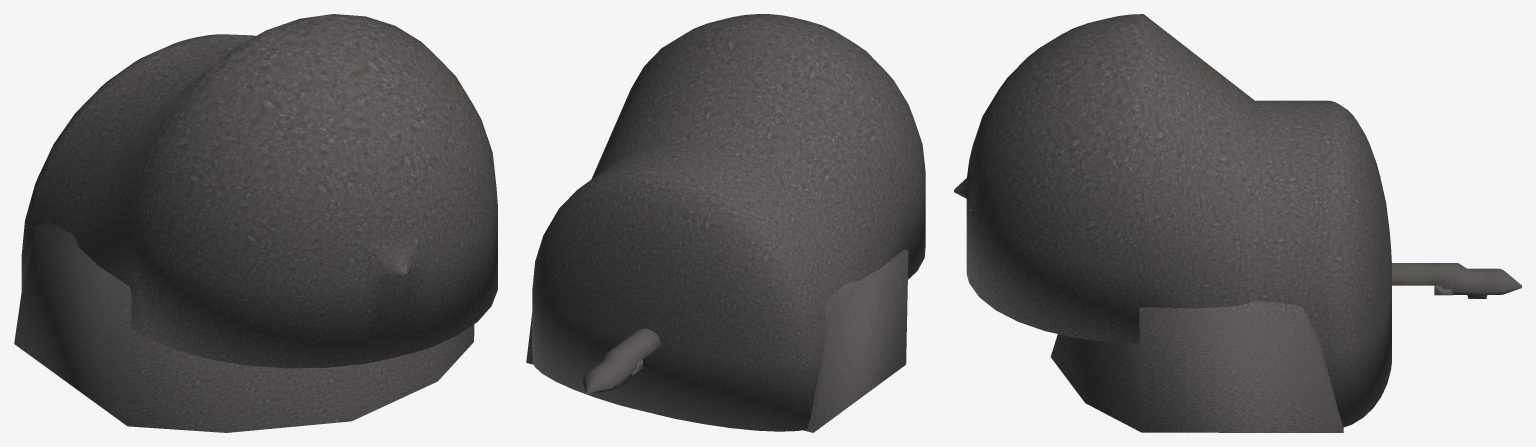
Rendered from StomachLevel.fbx.
3 renders of one model, left to right at view 1: azimuth 30°, elevation 25°; view 2: azimuth 150°, elevation 25°; view 3: azimuth 270°, elevation 25°, orthographic. The views are drawn at different scales.
Parts seen in each view (by area): view 1: StomachDome, StomachClimb2; view 2: StomachDome, StomachClimb2, StomachEntrance; view 3: StomachDome, StomachClimb2, StomachEntrance.
Part boxes in pixels (box(x1,y1,x2,y2)): StomachDome: box(21, 14, 497, 368); StomachClimb2: box(14, 222, 474, 432); StomachDome: box(532, 14, 925, 431); StomachClimb2: box(526, 249, 908, 432); StomachEntrance: box(582, 328, 662, 393); StomachDome: box(954, 14, 1391, 427); StomachClimb2: box(1050, 301, 1343, 432); StomachEntrance: box(1392, 263, 1521, 298).
Size of the model in its own units: 19001 by 18795 by 29615.
